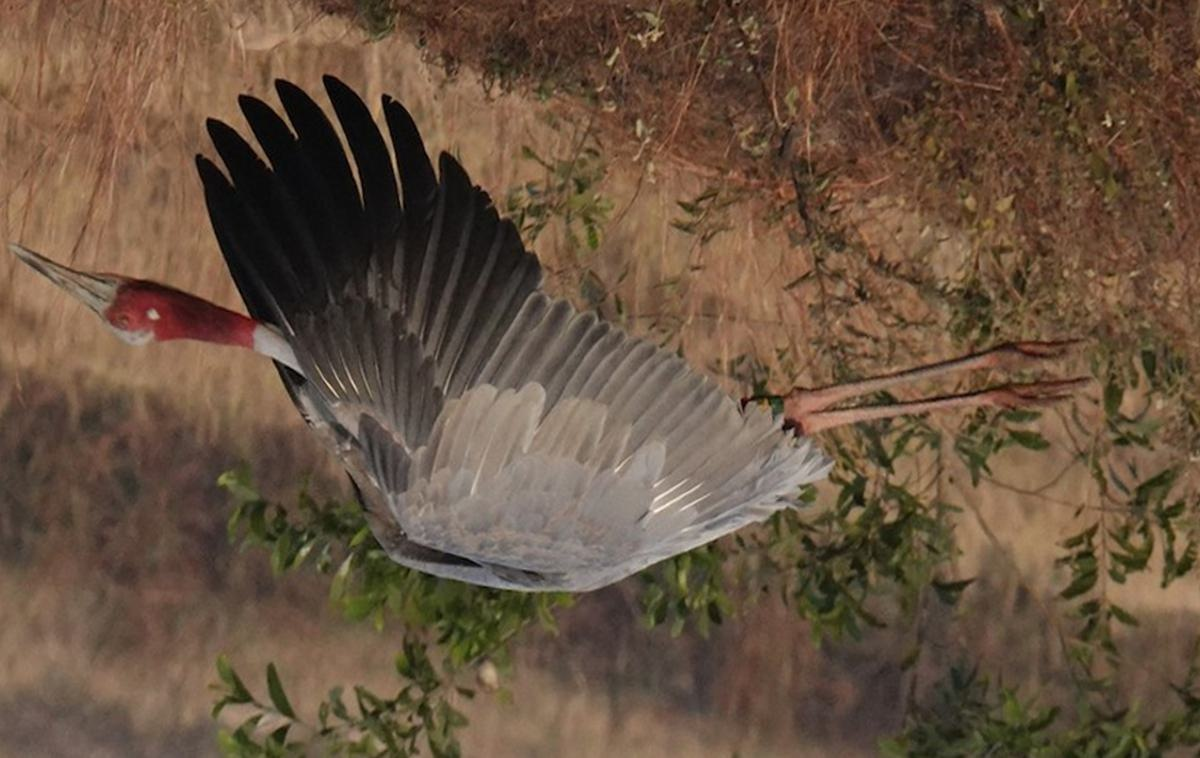crane: (7, 76, 1125, 622)
